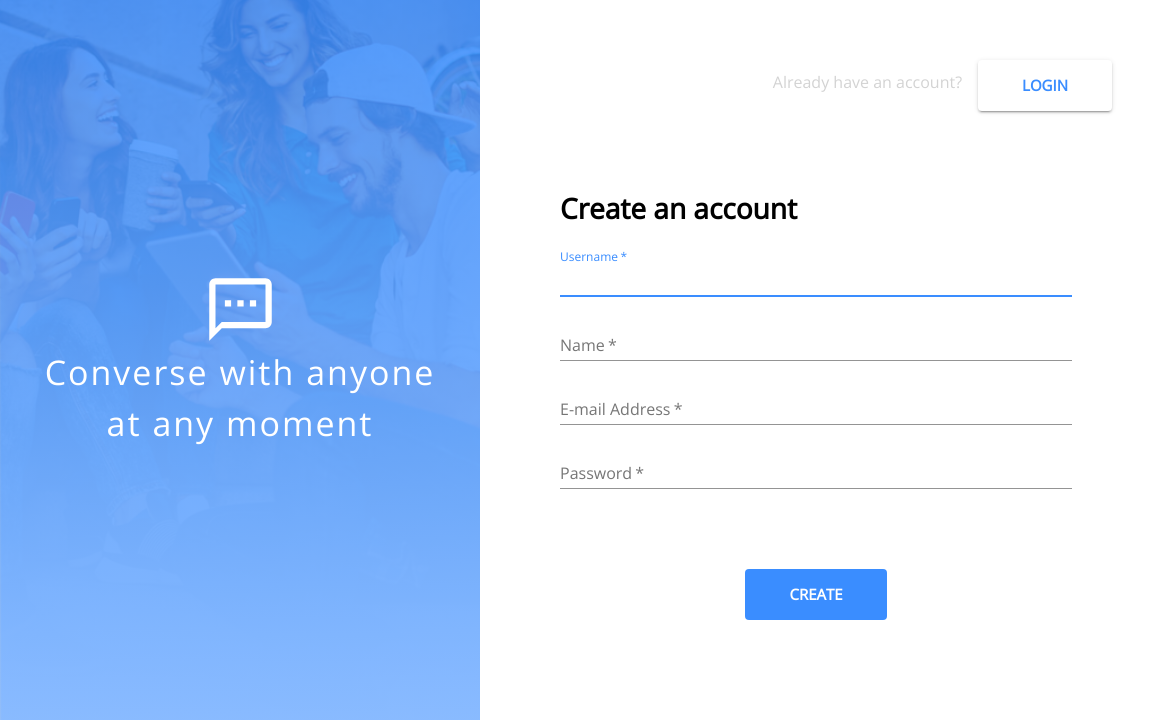
Register Page › Password Too Short
Check: the text "Create an account" is shown, box x1=560 y1=189 x2=797 y2=227
Type "account" into the field with id "username".
click(816, 281); type("account")  # box x1=560 y1=265 x2=1072 y2=297
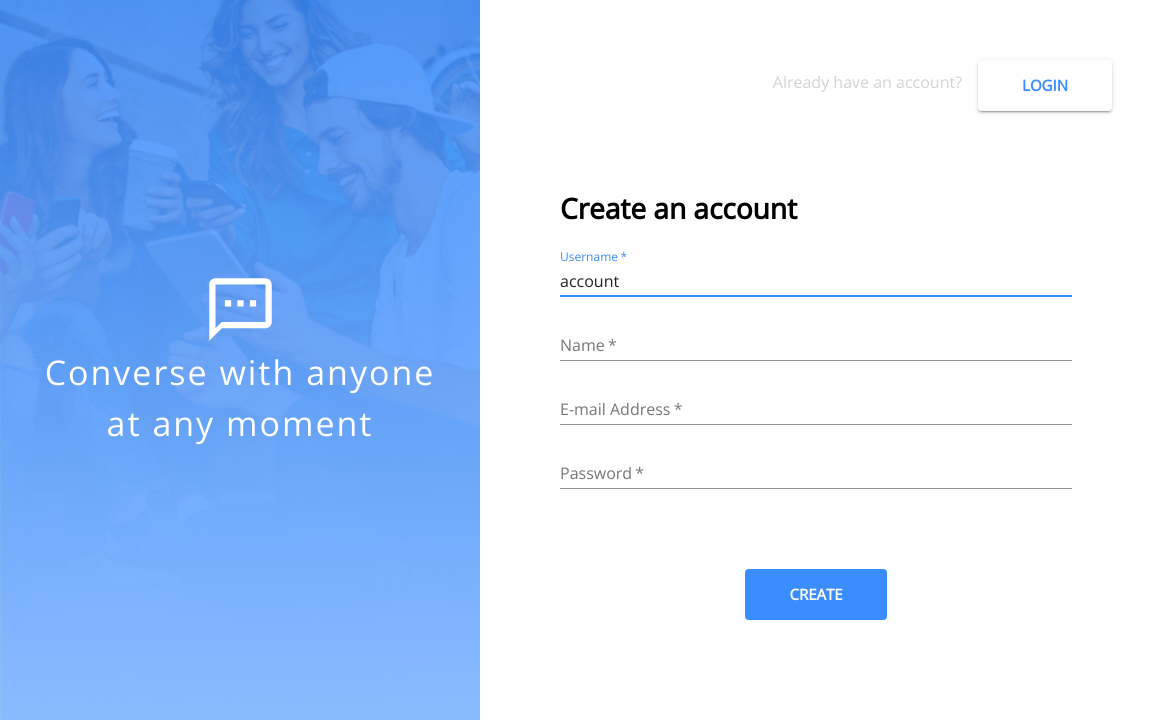
Type "account" into the field with id "name".
click(816, 345); type("account")  # box x1=560 y1=329 x2=1072 y2=361
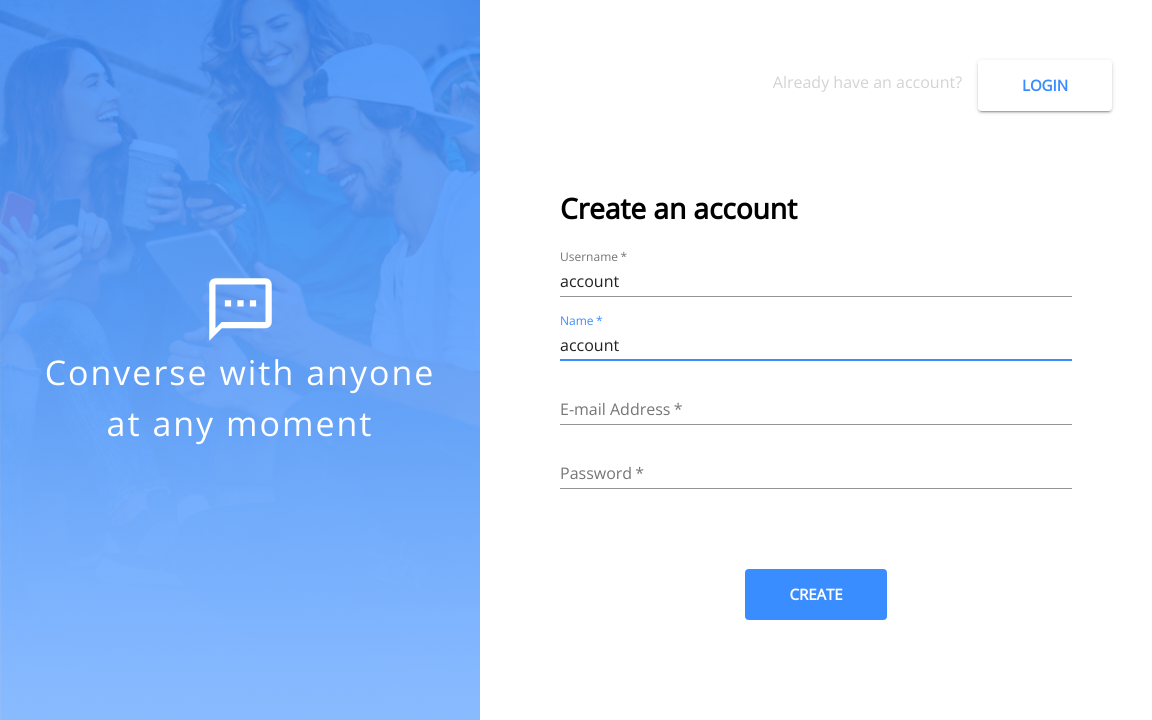
Type "account@gmail.com" into the field with id "email".
click(816, 409); type("account@gmail.com")  # box x1=560 y1=393 x2=1072 y2=425
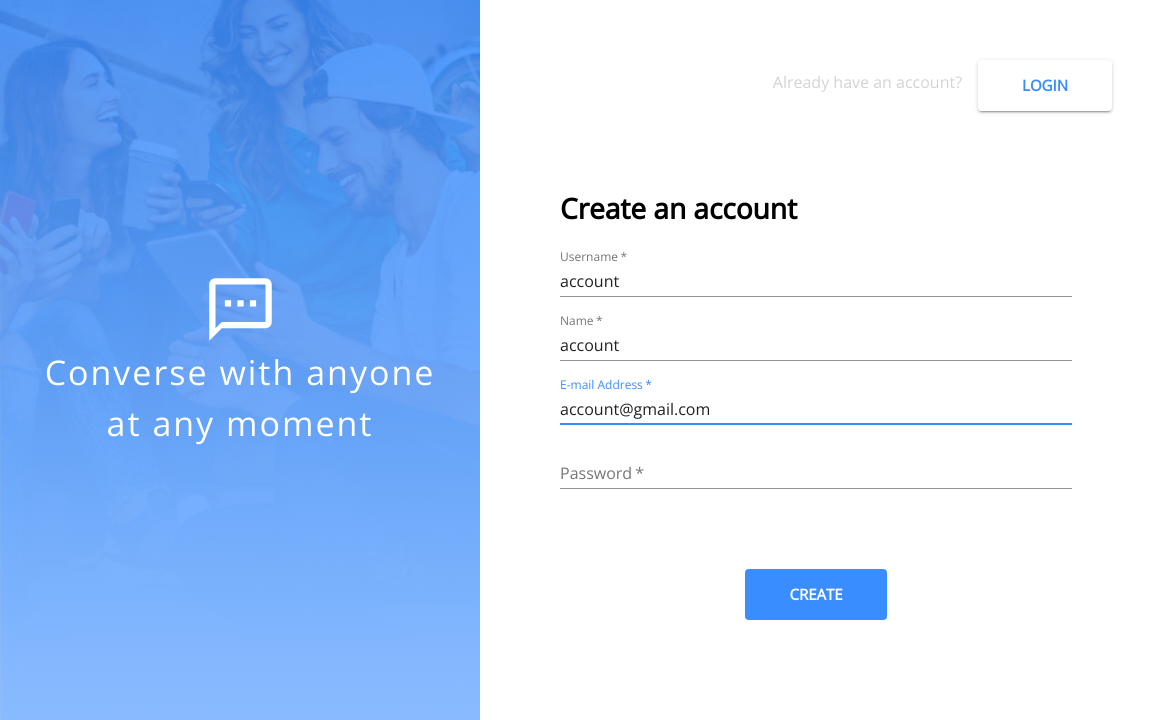
Type "a" into the password field labelled "Password *".
click(816, 473); type("a")  # box x1=560 y1=457 x2=1072 y2=489
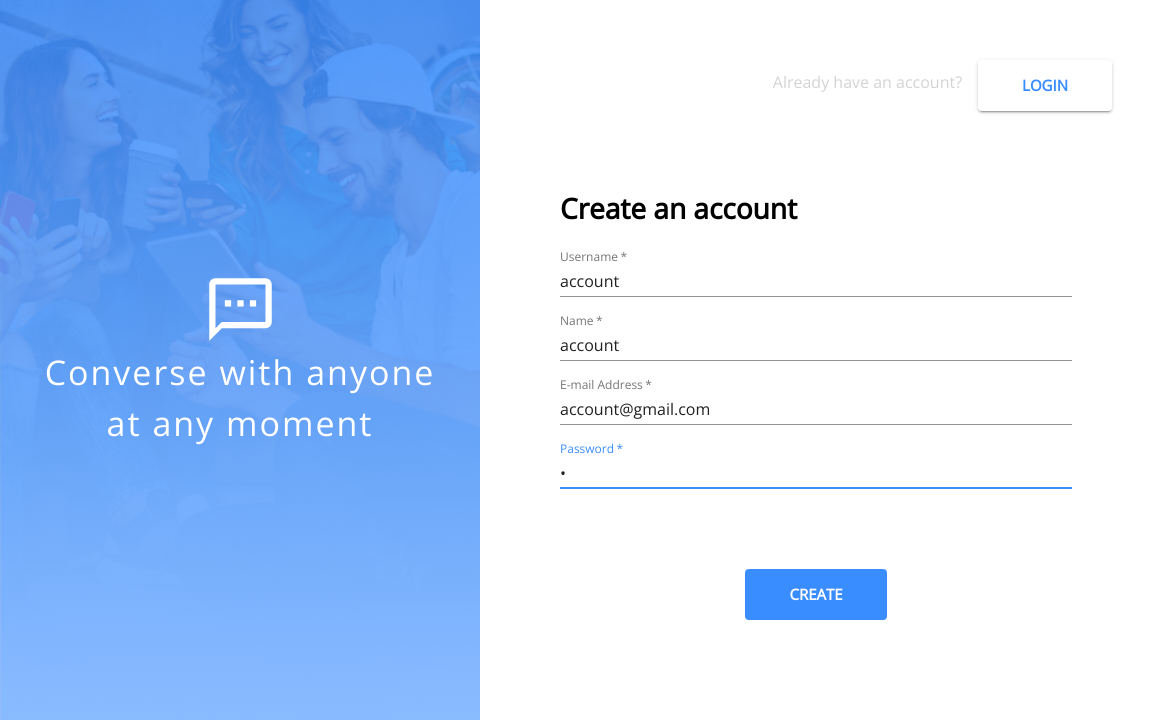
Click the button with id "create-button".
click(816, 594)  # box x1=745 y1=569 x2=886 y2=619
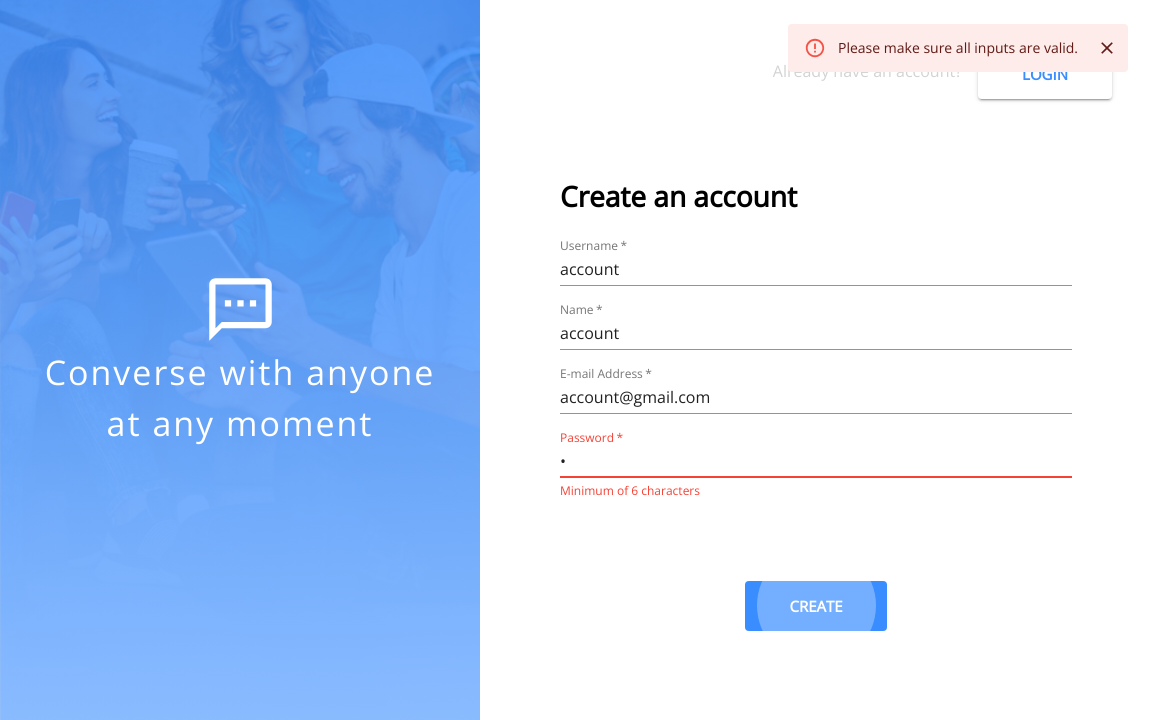
Check: the text "Minimum of 6 characters" is shown, box x1=560 y1=482 x2=700 y2=499
